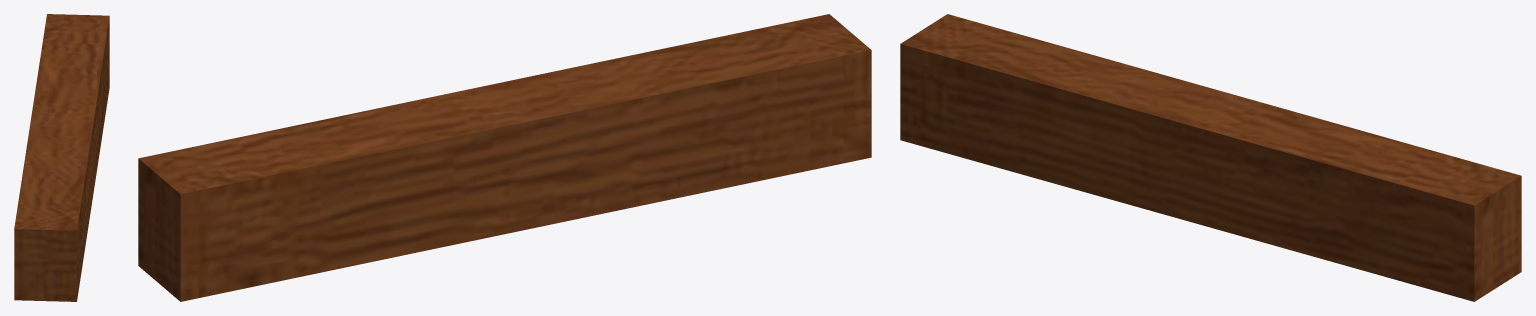
The model's file is frame__front_upright_neg.glb.
The picture shows the model from 3 angles, left to right: view 1: azimuth 30°, elevation 25°; view 2: azimuth 150°, elevation 25°; view 3: azimuth 270°, elevation 25°; orthographic projection. The views are drawn at different scales.
Visible parts, largest first — view 1: geometry_0; view 2: geometry_0; view 3: geometry_0.
Part boxes in pixels (x1=…): geometry_0: x1=14, y1=14, x2=109, y2=301; geometry_0: x1=138, y1=14, x2=871, y2=301; geometry_0: x1=900, y1=14, x2=1521, y2=301.
Bounding box in the file's own units: 0.2133 × 0.05 × 0.2922.
1 material, 1 textured.
